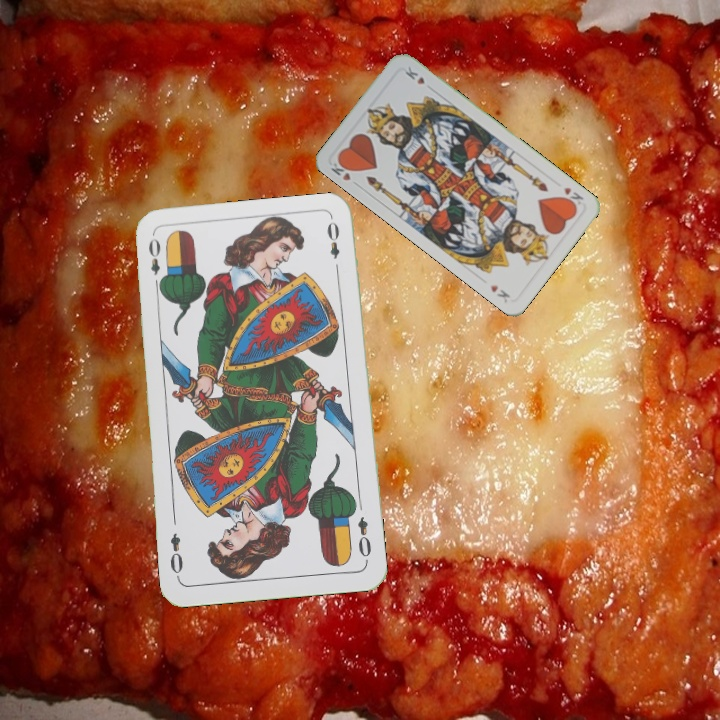EO: (144, 234, 166, 292), (354, 513, 374, 565)
HK: (327, 155, 362, 189), (558, 183, 586, 210)
